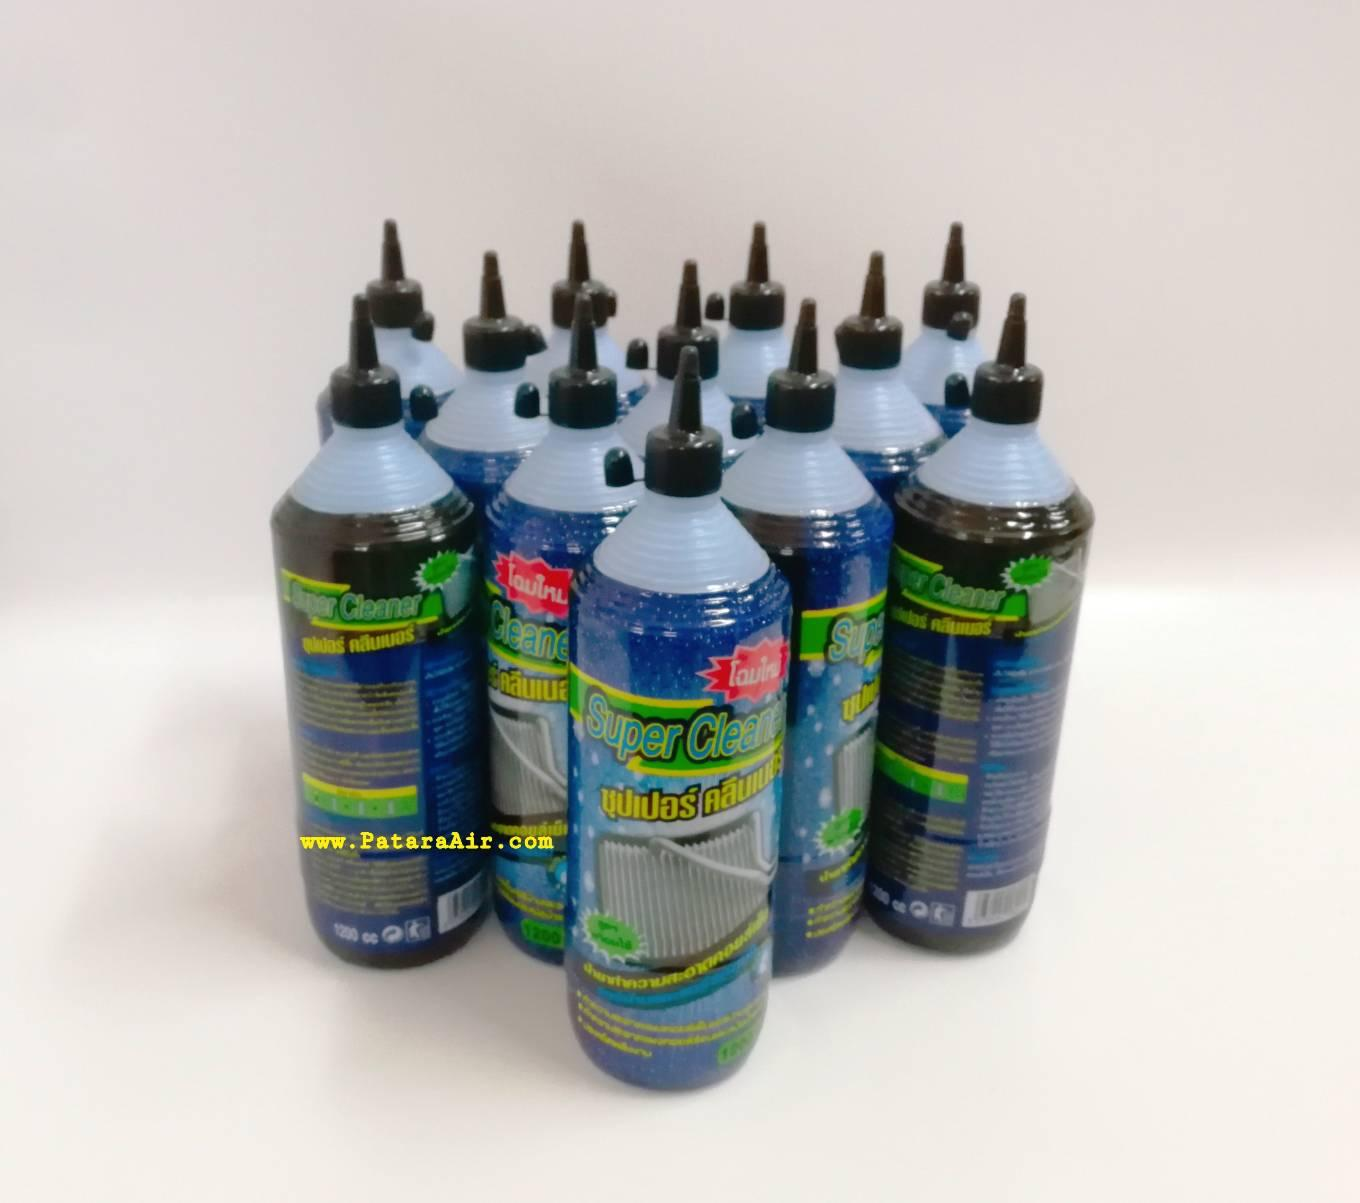Cleaning_solution: (552, 337, 803, 1097), (257, 287, 508, 979), (868, 284, 1106, 970)
